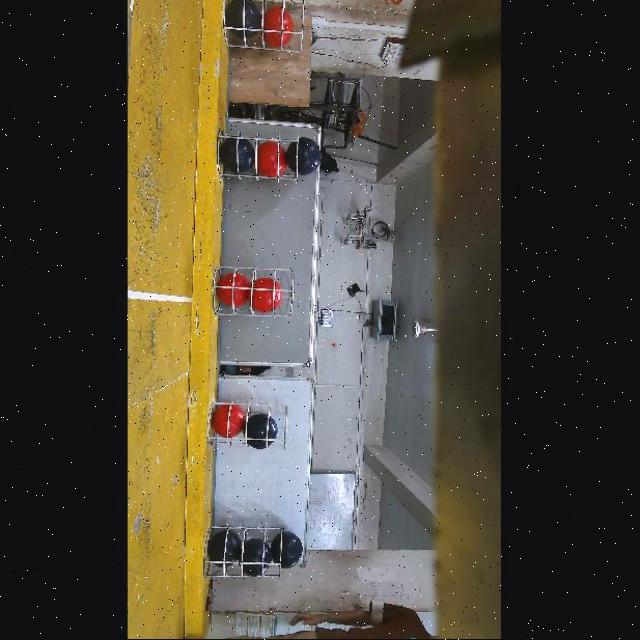P: (225, 0, 261, 39), (207, 529, 242, 569), (285, 137, 320, 176), (219, 138, 255, 173), (244, 413, 276, 452), (241, 538, 272, 577), (270, 537, 303, 570)
R: (248, 277, 283, 314), (259, 8, 293, 44), (211, 405, 246, 437), (255, 142, 287, 177), (216, 274, 249, 307)
S: (213, 128, 307, 188), (208, 262, 300, 322), (218, 0, 310, 54), (210, 522, 290, 582), (210, 402, 294, 453)
